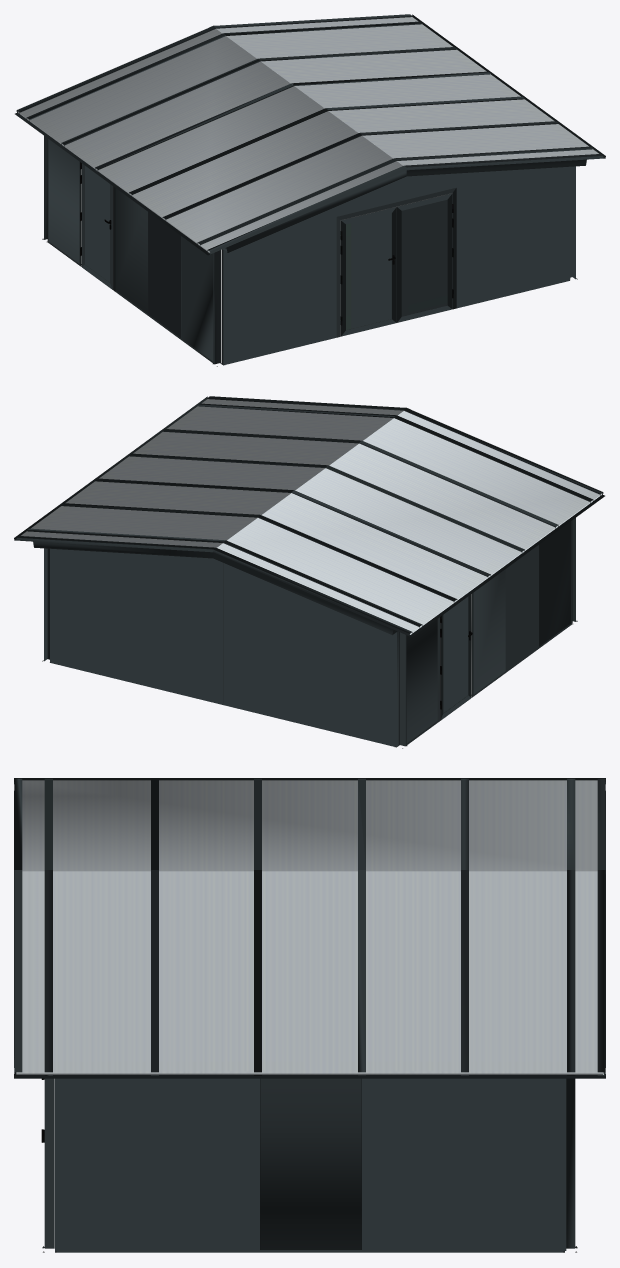
3 renders of one model, top to bottom at view 1: azimuth 30°, elevation 25°; view 2: azimuth 150°, elevation 25°; view 3: azimuth 270°, elevation 25°, orthographic. The views are drawn at different scales.
Visible parts, largest first — view 1: priximbattable_net_abris_de_voiture_640014_garage_polycarbon, folha_2, folha_3, folha, porta_dupla, porta; view 2: priximbattable_net_abris_de_voiture_640014_garage_polycarbon, folha, porta; view 3: priximbattable_net_abris_de_voiture_640014_garage_polycarbon.
Boxes of the visible parts, x1,y1,x2,y2 form: priximbattable_net_abris_de_voiture_640014_garage_polycarbon: (15,14,605,366); folha_2: (396,193,453,322); folha_3: (340,206,396,336); folha: (80,162,113,289); porta_dupla: (336,187,456,337); porta: (79,162,115,291); priximbattable_net_abris_de_voiture_640014_garage_polycarbon: (14,396,604,748); folha: (440,594,471,720); porta: (437,593,473,722); priximbattable_net_abris_de_voiture_640014_garage_polycarbon: (14,778,605,1252).
Size of the model in its own units: 689 by 270 by 580.
1 material, 1 textured.
